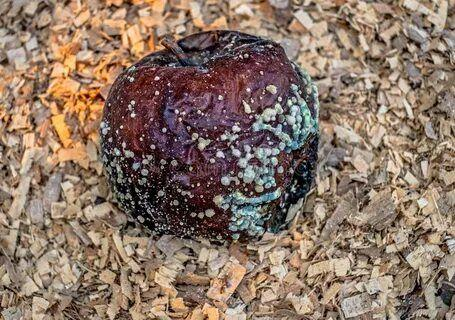Apple: (102, 32, 320, 241)
